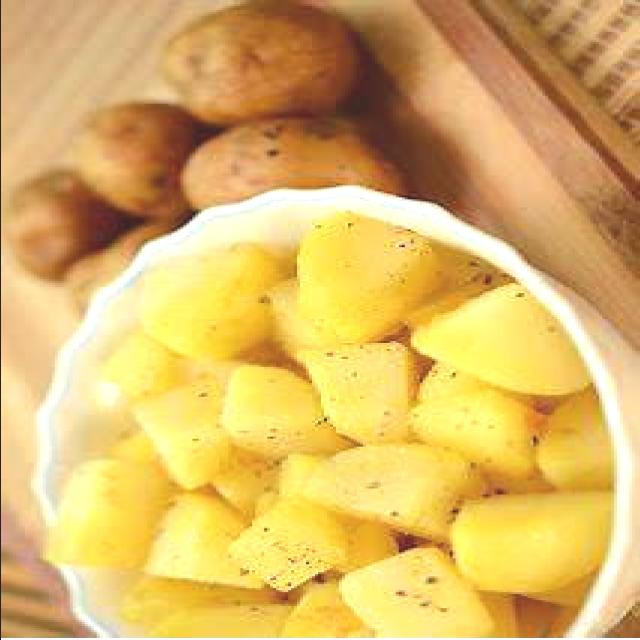kentang rebus: (293, 211, 493, 349), (269, 441, 505, 550), (413, 281, 592, 399), (449, 490, 610, 606)
